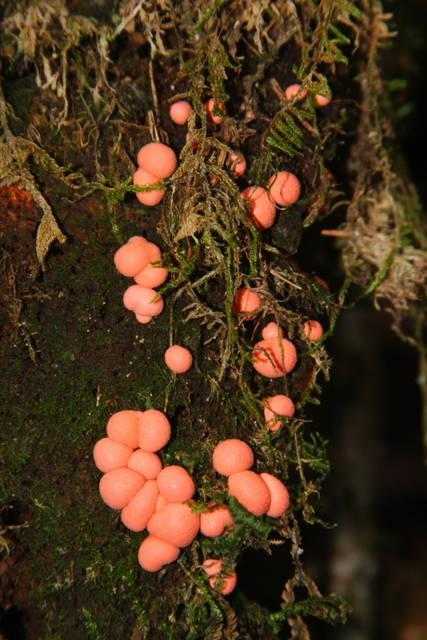Non-edible Mushroom: (93, 82, 336, 583), (92, 406, 290, 573), (250, 336, 297, 378), (239, 184, 276, 229), (135, 141, 177, 179), (266, 169, 301, 208), (131, 167, 165, 206), (162, 343, 193, 374), (168, 99, 192, 125)
